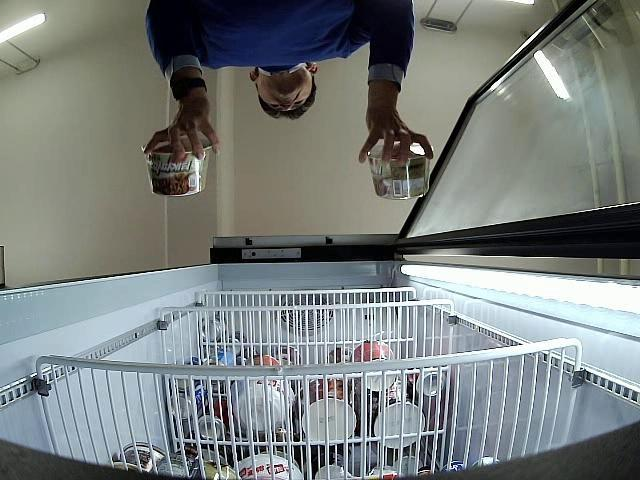03_chapagetti_L: (142, 138, 212, 198), (368, 144, 433, 200)
